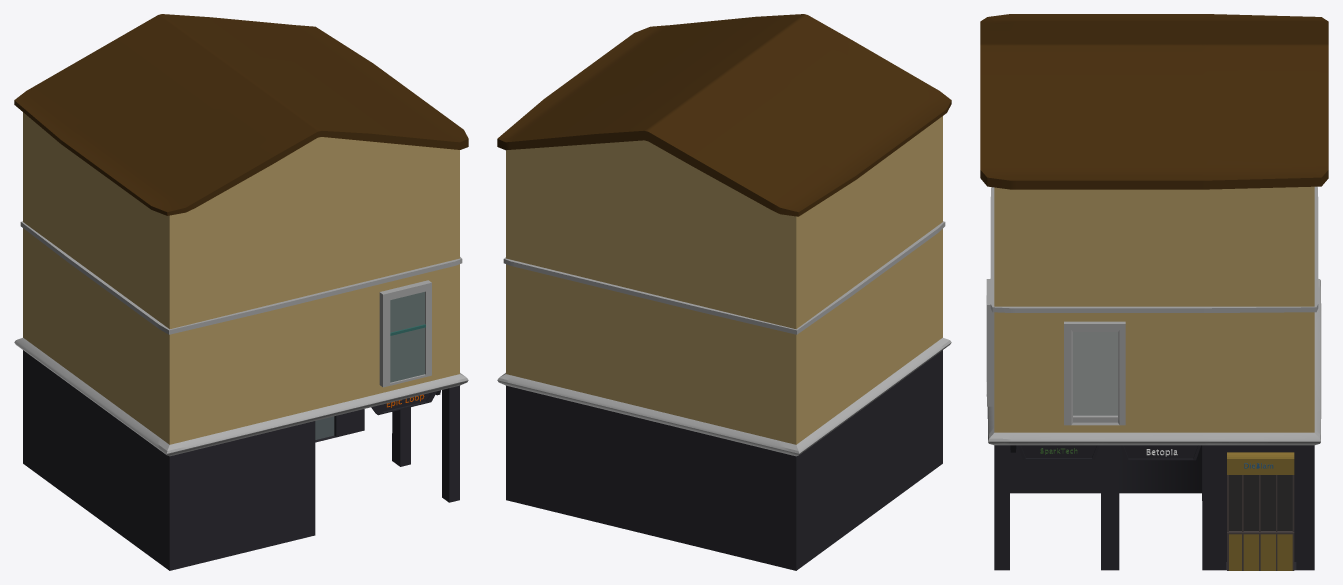
The model's file is building5.fbx.
3 views of the same model, side by side, from view 1: azimuth 30°, elevation 25°; view 2: azimuth 150°, elevation 25°; view 3: azimuth 270°, elevation 25° (orthographic). The views are drawn at different scales.
Visible parts, largest first — view 1: pCube1, pCube4; view 2: pCube1; view 3: pCube1, pCube5, pCube3, pCube4.
Boxes of the visible parts, x1,y1,x2,y2 form: pCube1: (14, 14, 468, 570); pCube4: (379, 280, 431, 387); pCube1: (497, 14, 951, 570); pCube1: (980, 14, 1328, 570); pCube5: (1227, 452, 1294, 570); pCube3: (1064, 321, 1125, 425); pCube4: (986, 279, 994, 406).
Size of the model in its own units: 862 by 1079 by 762.
